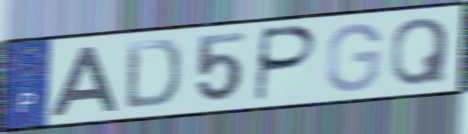5: (194, 32, 250, 106)
A: (48, 43, 121, 118)
D: (122, 37, 184, 112)
G: (324, 21, 384, 94)
P: (251, 23, 320, 104)
Q: (388, 15, 452, 89)
